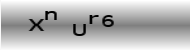6: (101, 14, 115, 28)
U: (71, 23, 87, 37)
X: (27, 18, 44, 32)
n: (44, 10, 58, 21)
r: (88, 13, 100, 25)
